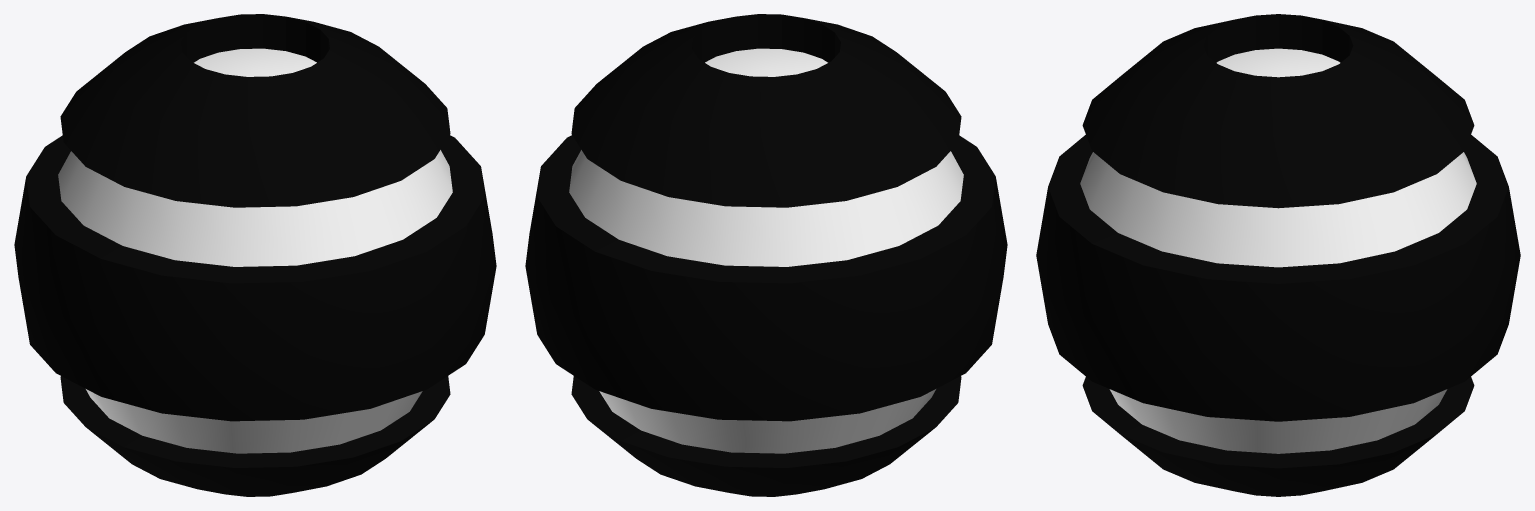
Rendered from newBall.FBX.
3 views of the same model, side by side, from view 1: azimuth 30°, elevation 25°; view 2: azimuth 150°, elevation 25°; view 3: azimuth 270°, elevation 25° (orthographic).
Visible parts, largest first — view 1: Sphere001; view 2: Sphere001; view 3: Sphere001.
Part boxes in pixels (bbox=[...]): Sphere001: bbox=[14, 14, 496, 496]; Sphere001: bbox=[525, 14, 1007, 496]; Sphere001: bbox=[1036, 14, 1520, 496].
Bounding box in the file's own units: 20 × 19.12 × 20.
1 material, 1 textured.
